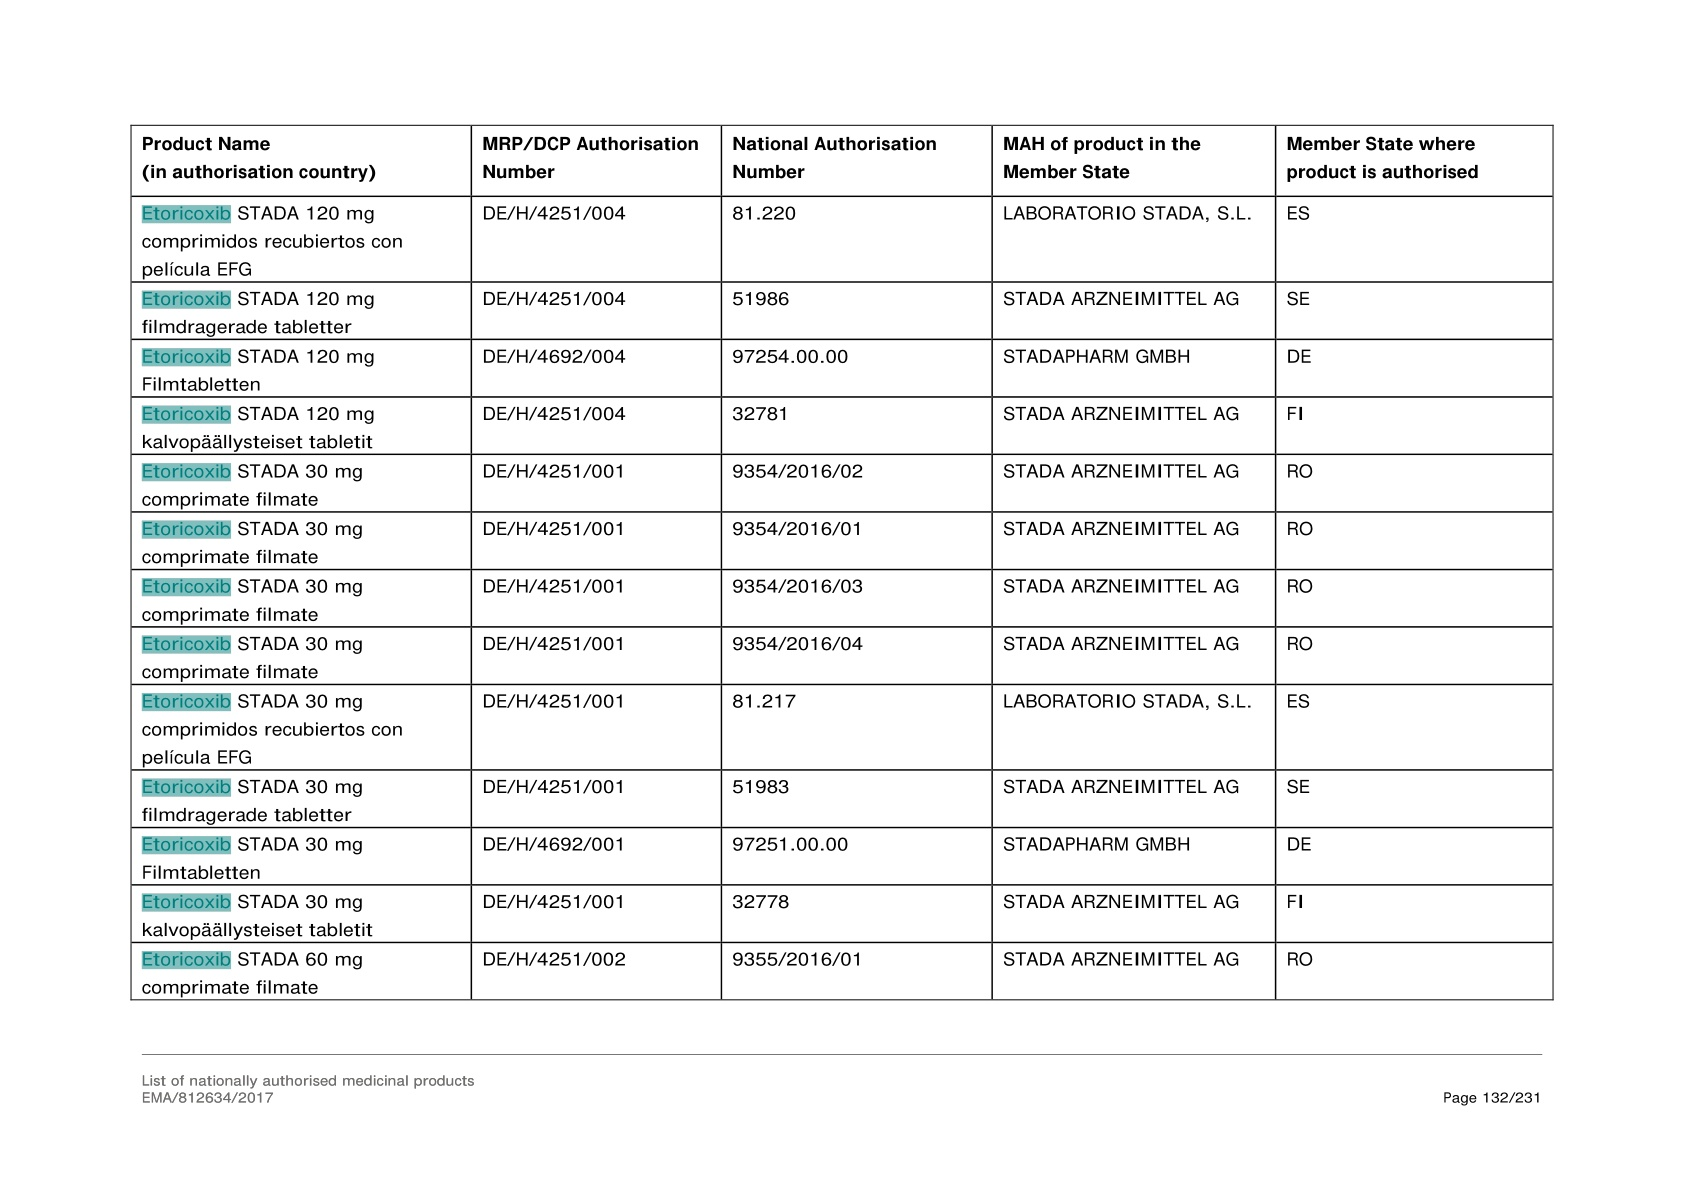full_lined: (130, 124, 1554, 1002)
